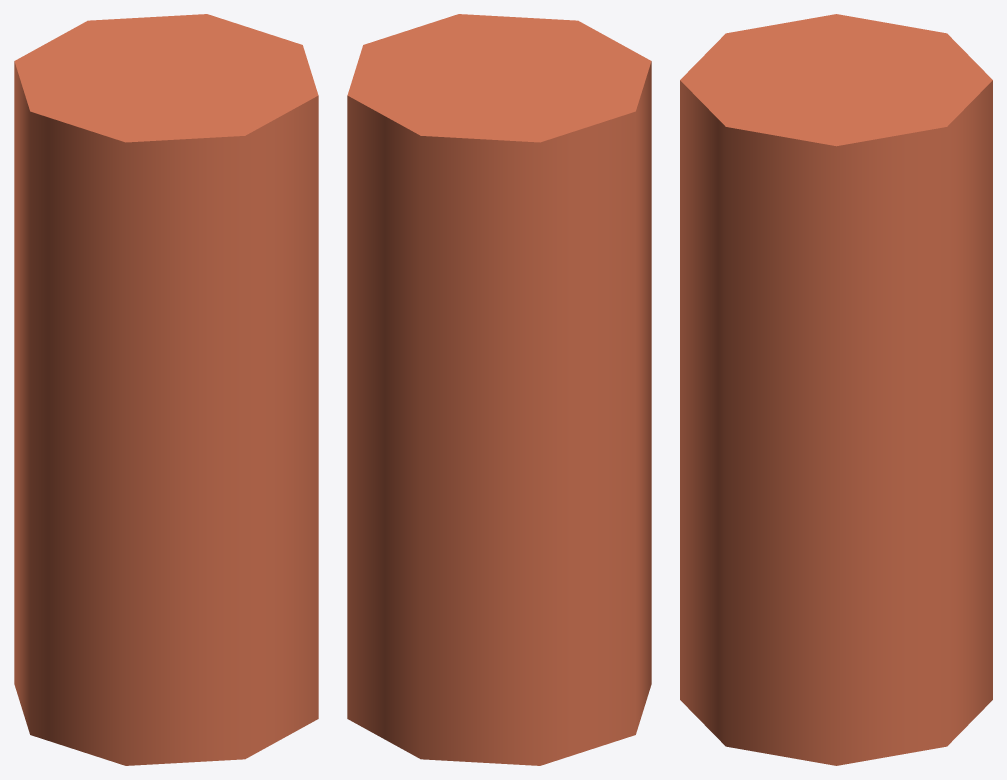
3 views of the same model, side by side, from view 1: azimuth 30°, elevation 25°; view 2: azimuth 150°, elevation 25°; view 3: azimuth 270°, elevation 25° (orthographic).
Visible parts, largest first — view 1: Cylinder; view 2: Cylinder; view 3: Cylinder.
Boxes of the visible parts, bbox=[...] form: Cylinder: bbox=[14, 14, 318, 765]; Cylinder: bbox=[347, 14, 651, 765]; Cylinder: bbox=[680, 14, 992, 765].
Size of the model in its own units: 19.47 by 42.54 by 19.47.
